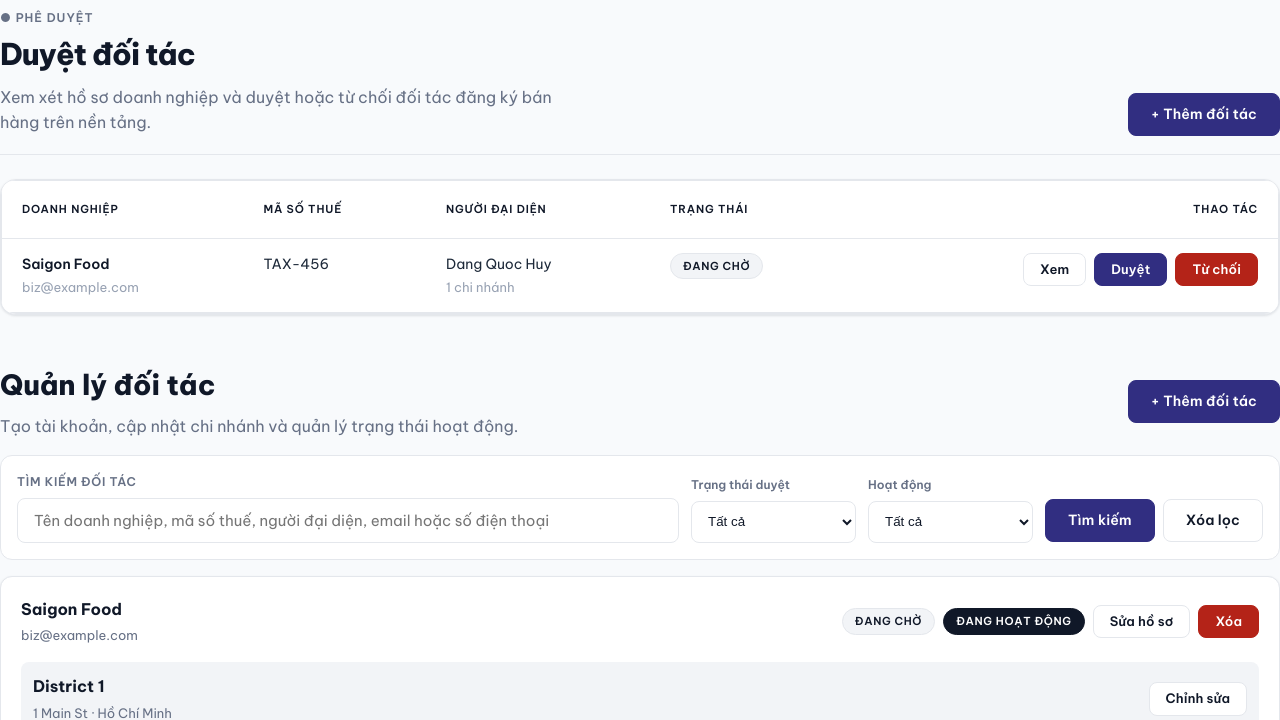
it: PartnerApprovalsPage › requires a reason before rejecting (Req 6.3)
Expected: the text "Saigon Food" next to "TAX-456" is shown, [22,255,110,273]
Click the button with aria-label "từ chối saigon food" at (1217, 270), box [1175,253,1258,286]
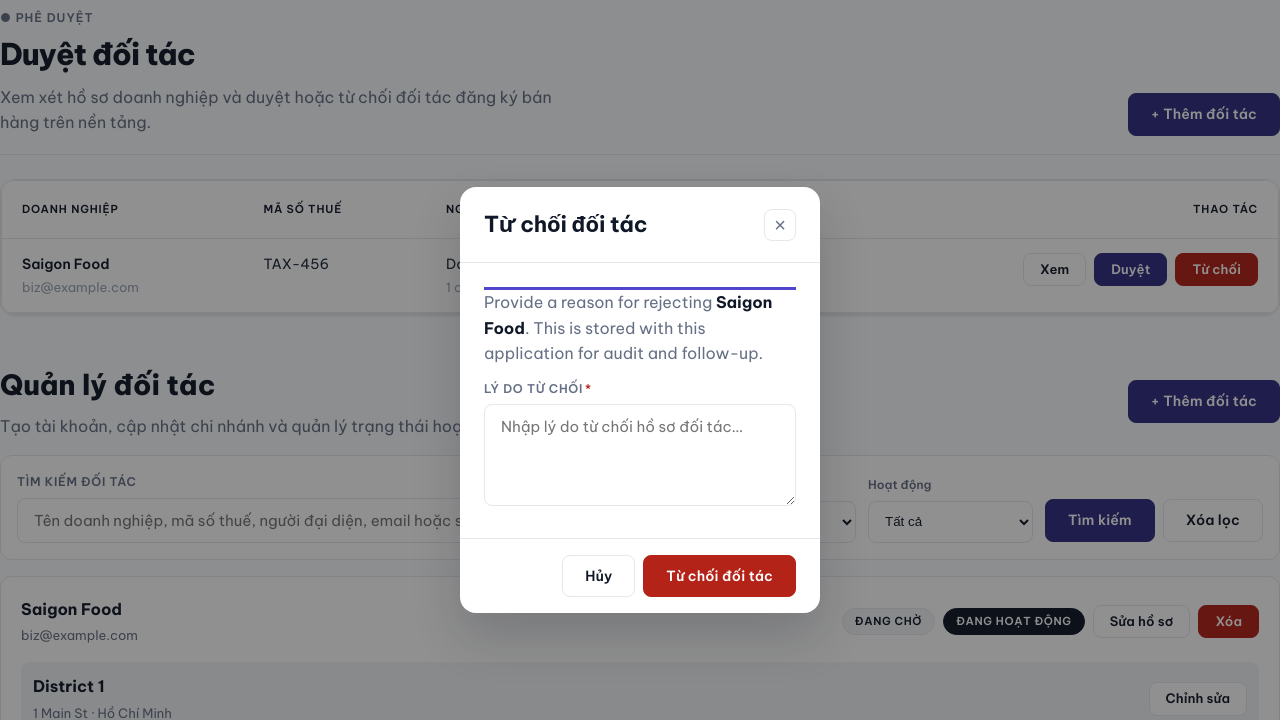
# Submit without a reason → validation blocks the API call.
Click the button "Từ chối đối tác" at (720, 576), box [643,555,796,598]
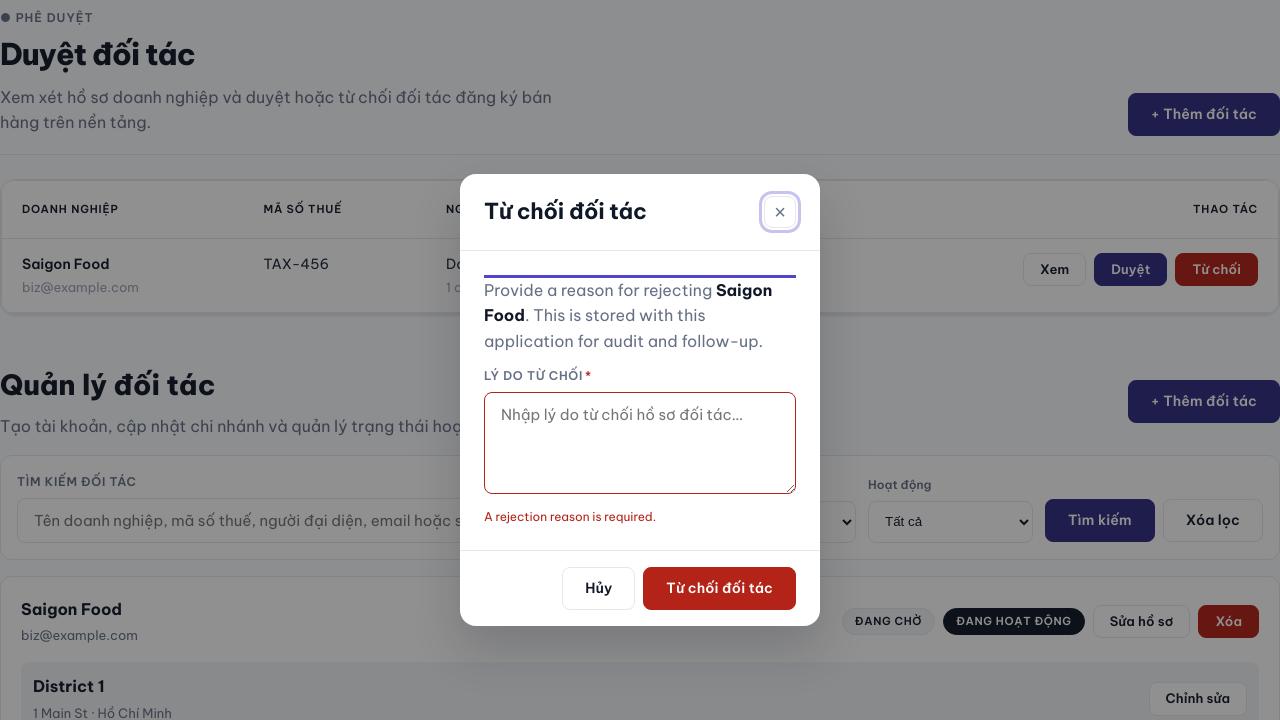
Expected: the text "A rejection reason is required." is shown, [484,509,656,524]
